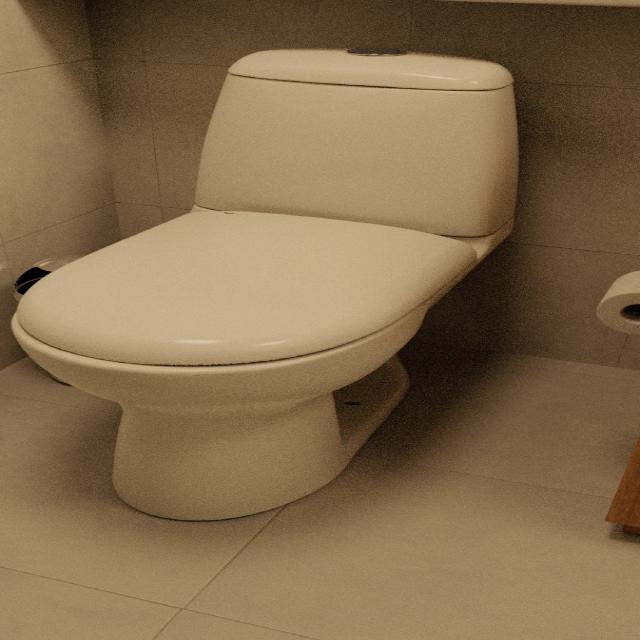toilet: (10, 47, 520, 521)
